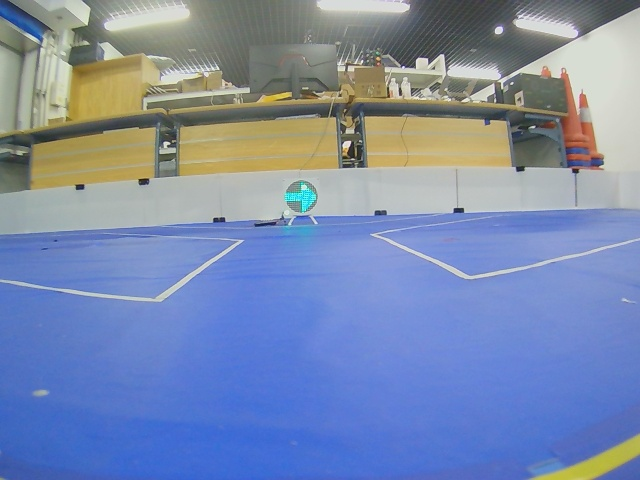right_green: (285, 181, 317, 213)
